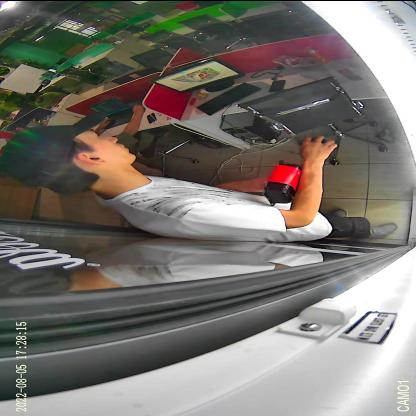red: (262, 159, 302, 205)
